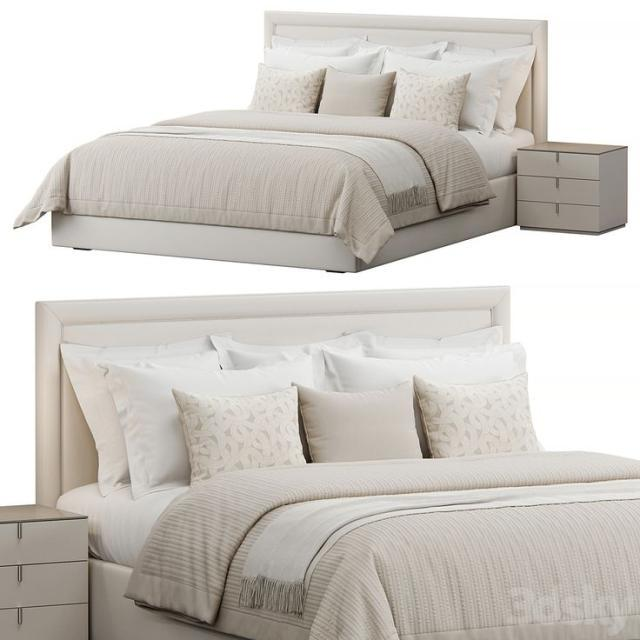obstacle: (34, 284, 639, 638), (12, 10, 548, 274), (0, 506, 88, 640), (516, 140, 628, 235)
